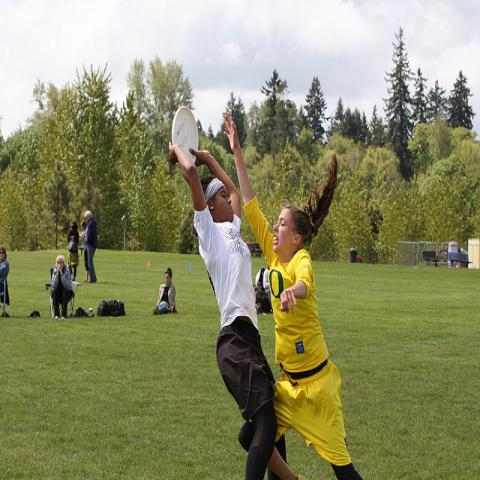car: (423, 241, 468, 267), (97, 235, 104, 242)
